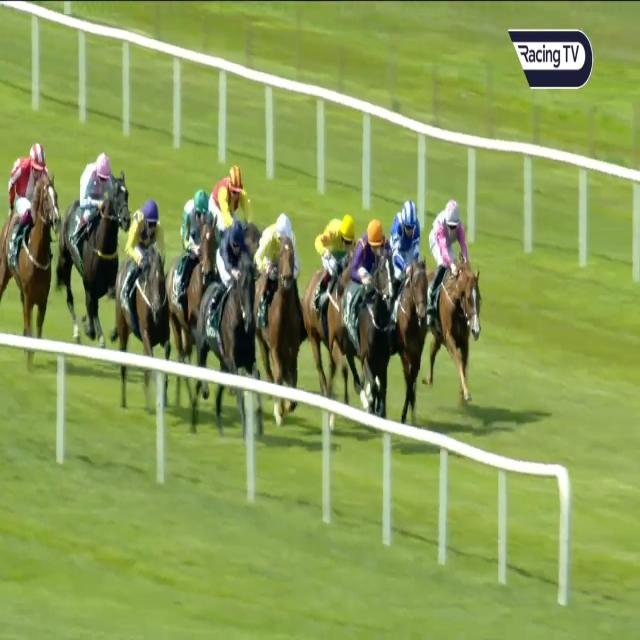horses-racing: (425, 198, 488, 403), (60, 156, 128, 326), (3, 144, 58, 339), (201, 224, 255, 412), (117, 200, 167, 388), (351, 221, 395, 412), (257, 215, 298, 419), (391, 202, 428, 414), (305, 215, 356, 356), (170, 189, 218, 336), (209, 162, 258, 230)
